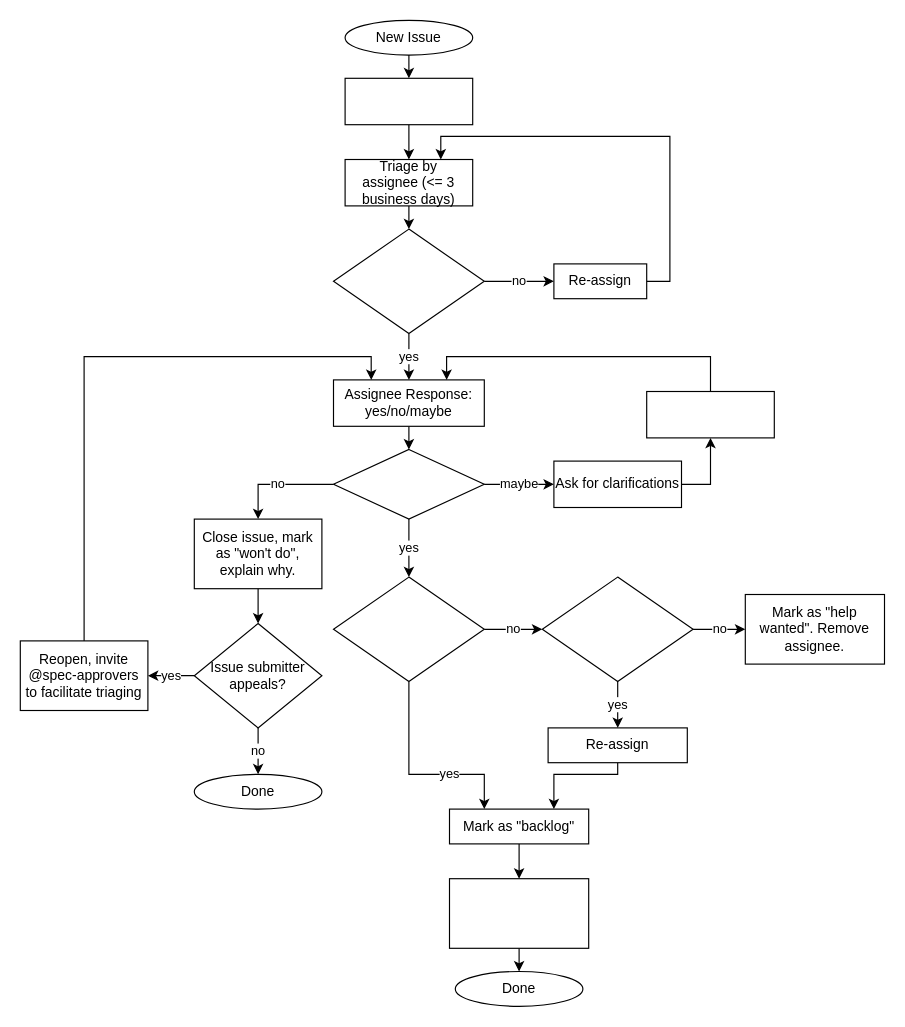
The diagram is 905 pixels wide and 1027 high, and some of its shapes have lost their labels. The shapes that lost their labels are listed below. From the top down, each one's centre as x and y in pixels, then its label:
point 408,101: Auto-assign to a spec approver
point 408,281: Assigned to correct first responder?
point 710,414: Wait for author to clarify
point 408,483: Response
point 408,629: Assigned to correct contributor to work on?
point 617,629: Can find a contributor?
point 518,913: Work on the issue resolution, submit a PR, etc.
